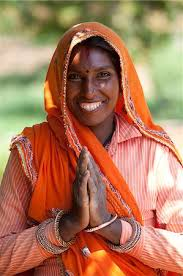indian_female: (59, 16, 124, 129)
